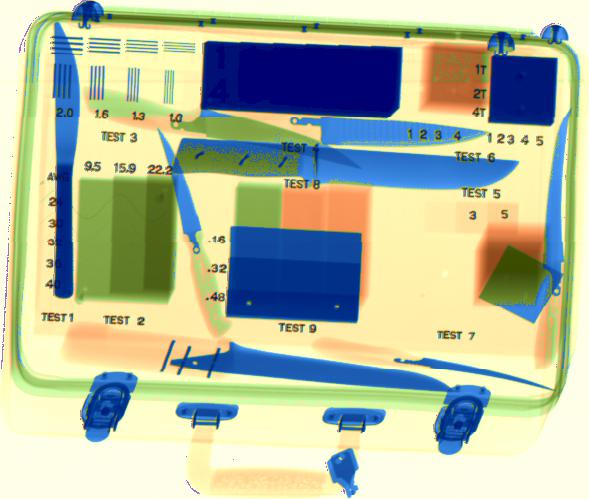Knife: (169, 135, 522, 190), (155, 331, 452, 394), (156, 127, 231, 338), (168, 110, 364, 172), (533, 108, 572, 369), (47, 23, 83, 297), (377, 340, 556, 391), (277, 109, 490, 149)
